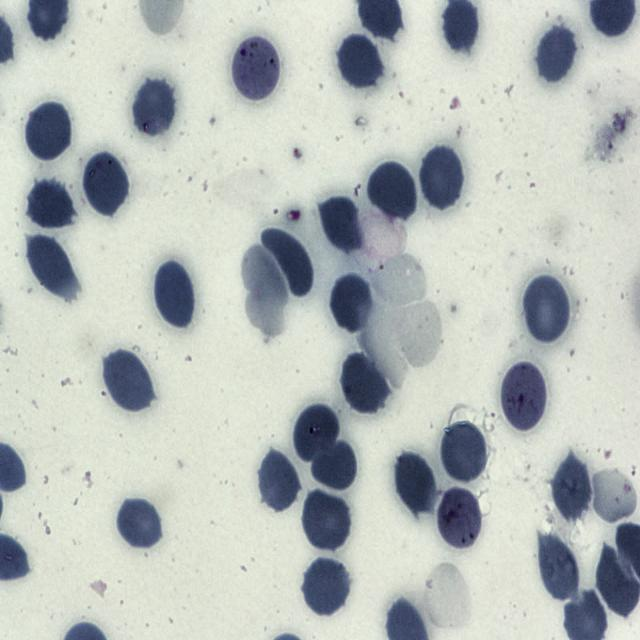red blood cell: (260, 227, 315, 299), (522, 272, 572, 346), (103, 349, 155, 414), (301, 488, 353, 552), (25, 235, 76, 299), (440, 419, 489, 485), (419, 142, 465, 212), (82, 150, 130, 216), (301, 556, 351, 618), (256, 448, 302, 515), (340, 351, 388, 415), (550, 451, 594, 520), (368, 160, 417, 221), (537, 532, 579, 603), (153, 259, 195, 329), (24, 100, 72, 161), (131, 75, 176, 139), (393, 450, 437, 515), (329, 271, 374, 334), (336, 32, 384, 91), (292, 404, 340, 462), (535, 21, 578, 85), (319, 194, 363, 255), (115, 496, 163, 551), (310, 438, 358, 492), (26, 178, 74, 230)
ring: (500, 359, 548, 432), (234, 34, 282, 103), (434, 486, 484, 551)
